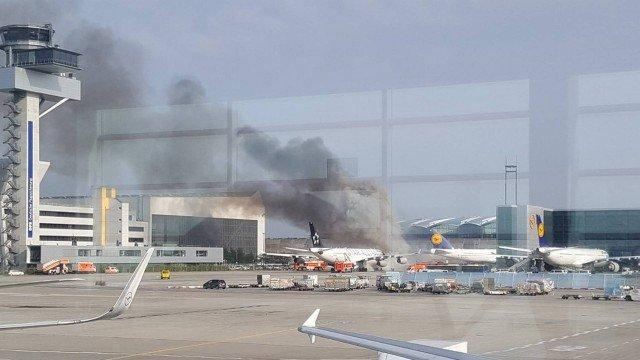smoke: (286, 169, 384, 235)
